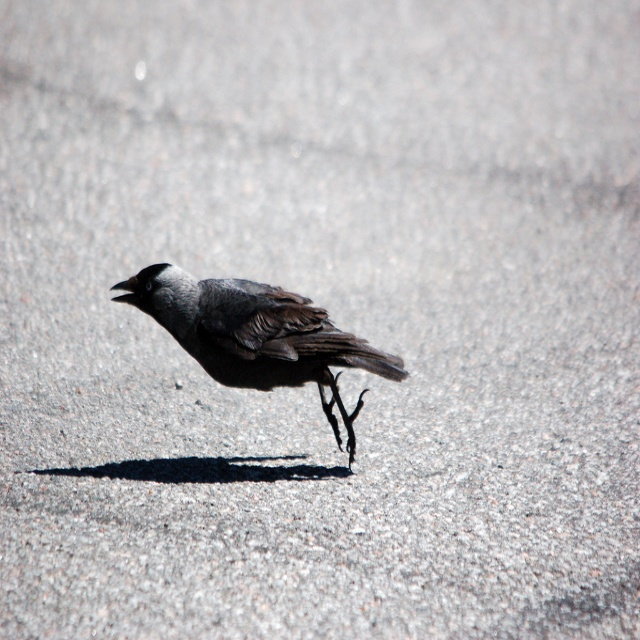Raven: (99, 255, 413, 462)
